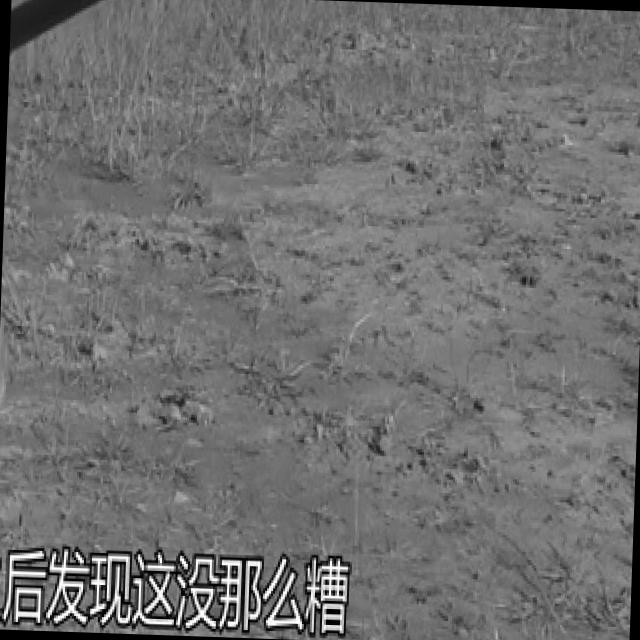Guns: (0, 0, 127, 537)
